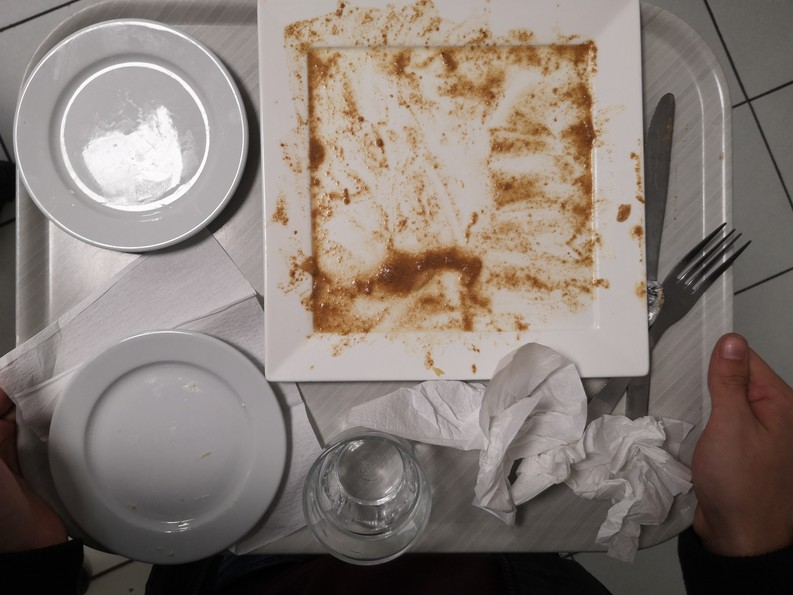cup: (309, 434, 465, 585)
cutlery: (644, 93, 751, 402)
trash: (215, 240, 345, 554), (1, 236, 213, 414), (472, 347, 589, 524), (575, 407, 699, 572), (346, 381, 492, 460)
